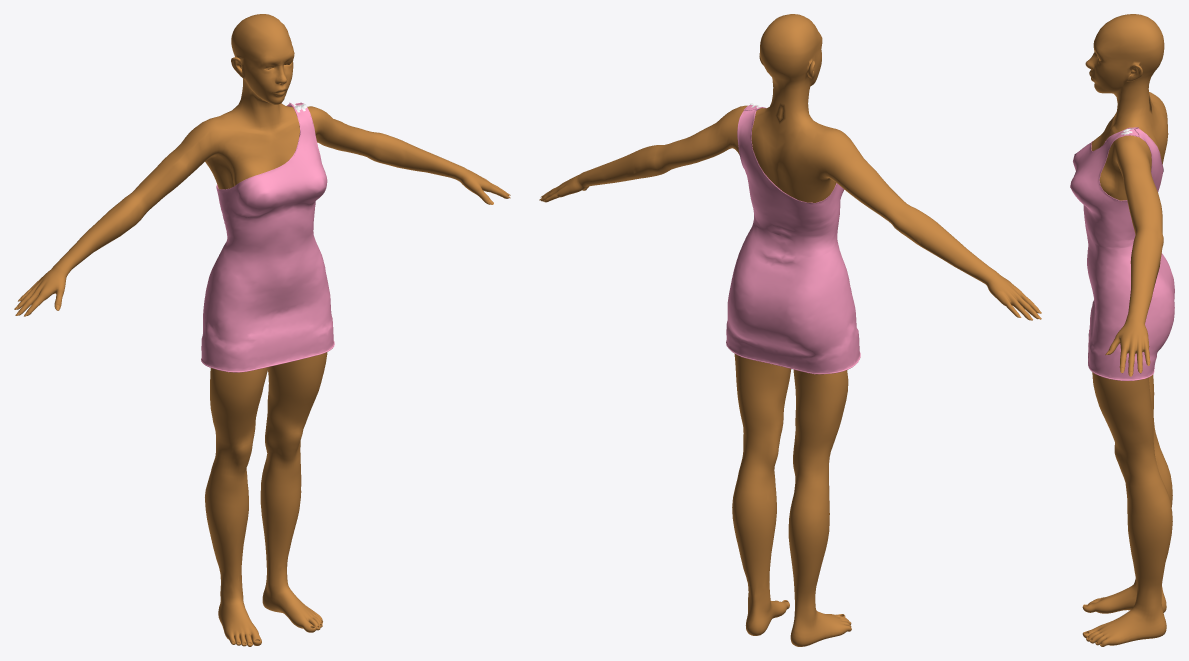
Rendered from dress1.glb.
The picture shows the model from 3 angles, left to right: view 1: azimuth 30°, elevation 25°; view 2: azimuth 150°, elevation 25°; view 3: azimuth 270°, elevation 25°; orthographic projection.
Visible parts, largest first — view 1: Body, WhiteDress; view 2: Body, WhiteDress; view 3: Body, WhiteDress.
Boxes of the visible parts, bbox=[...] form: Body: bbox=[16, 14, 510, 646]; WhiteDress: bbox=[201, 102, 334, 372]; Body: bbox=[540, 14, 1038, 646]; WhiteDress: bbox=[726, 103, 860, 374]; Body: bbox=[1082, 14, 1172, 646]; WhiteDress: bbox=[1070, 127, 1174, 380].
Size of the model in its own units: 1.58 by 1.85 by 0.288.
